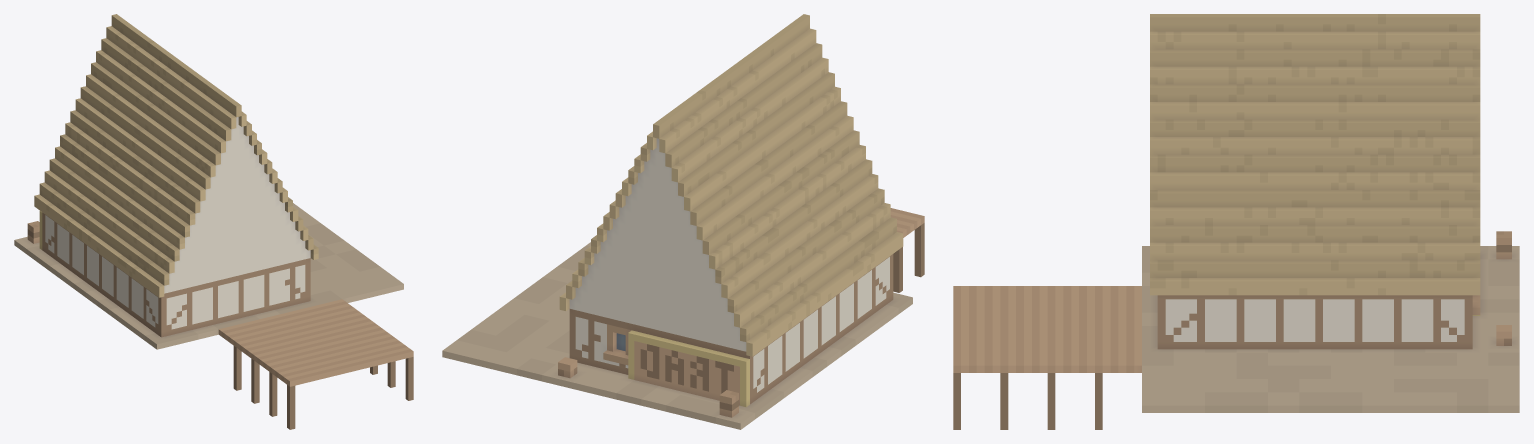
The model's file is trading_post.l1.glb.
3 renders of one model, left to right at view 1: azimuth 30°, elevation 25°; view 2: azimuth 150°, elevation 25°; view 3: azimuth 270°, elevation 25°, orthographic. The views are drawn at different scales.
Parts seen in each view (by area): view 1: trading_post; view 2: trading_post; view 3: trading_post.
Boxes of the visible parts, x1=… form: trading_post: x1=14, y1=14, x2=413, y2=429; trading_post: x1=442, y1=14, x2=924, y2=429; trading_post: x1=953, y1=14, x2=1519, y2=429.
Size of the model in its own units: 6 by 6.12 by 9.
